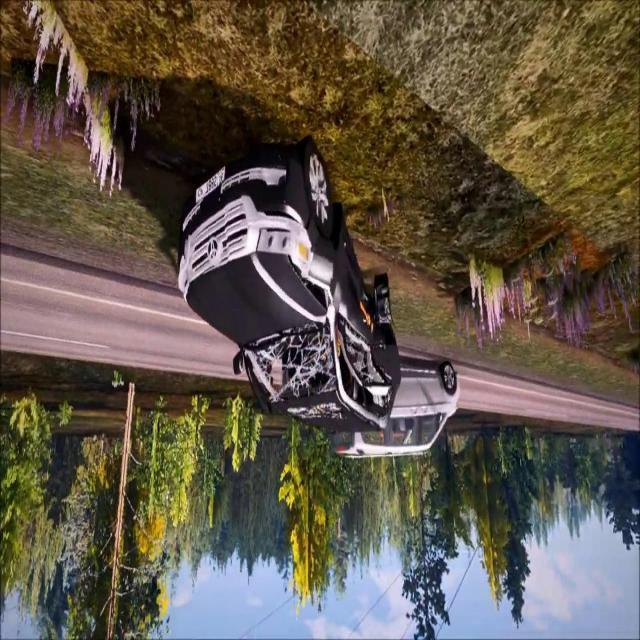severe: (173, 132, 404, 432)
